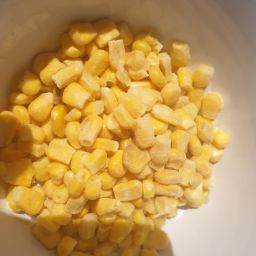Corn Kernel: (3, 117, 230, 256), (6, 18, 247, 140), (64, 26, 162, 256), (144, 20, 233, 256), (22, 33, 82, 256)
